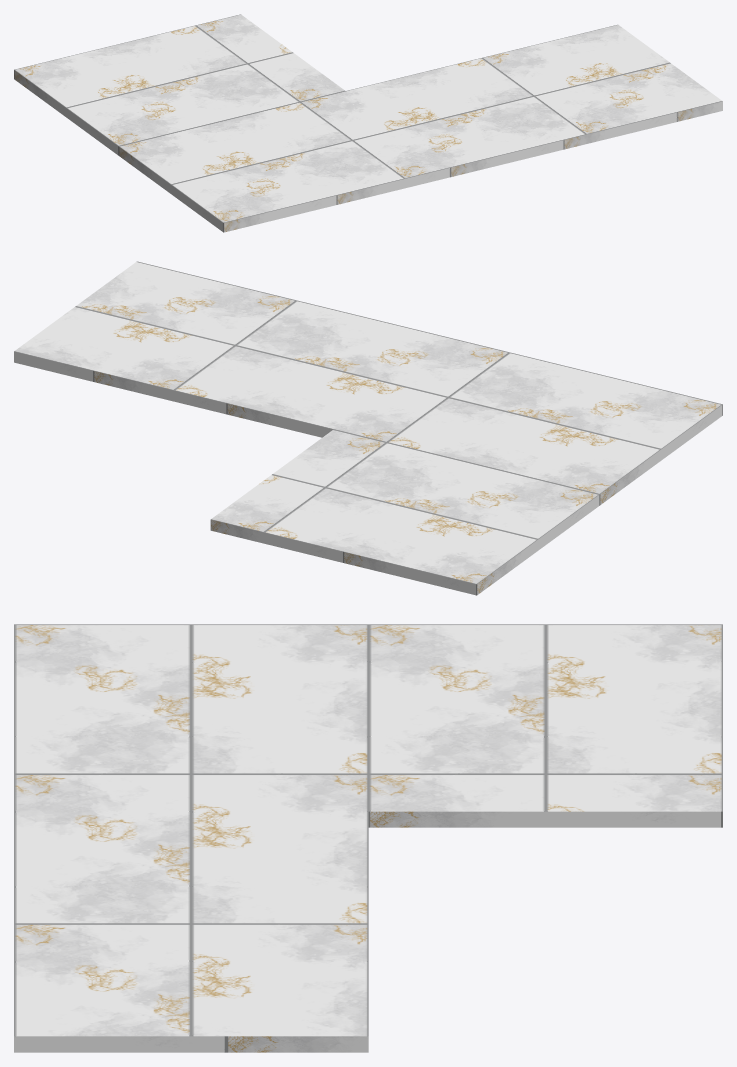
Rendered from ParkourGroundMarble1.fbx.
The picture shows the model from 3 angles, top to bottom: view 1: azimuth 30°, elevation 25°; view 2: azimuth 150°, elevation 25°; view 3: azimuth 270°, elevation 25°; orthographic projection. The views are drawn at different scales.
Visible parts, largest first — view 1: Plane; view 2: Plane; view 3: Plane.
Part boxes in pixels (x1,y1,x2,y2): Plane: (14, 14, 722, 232); Plane: (14, 261, 722, 595); Plane: (14, 624, 722, 1052).
Size of the model in its own units: 55 by 1 by 40.
Materials: 1 (1 with a texture image).
